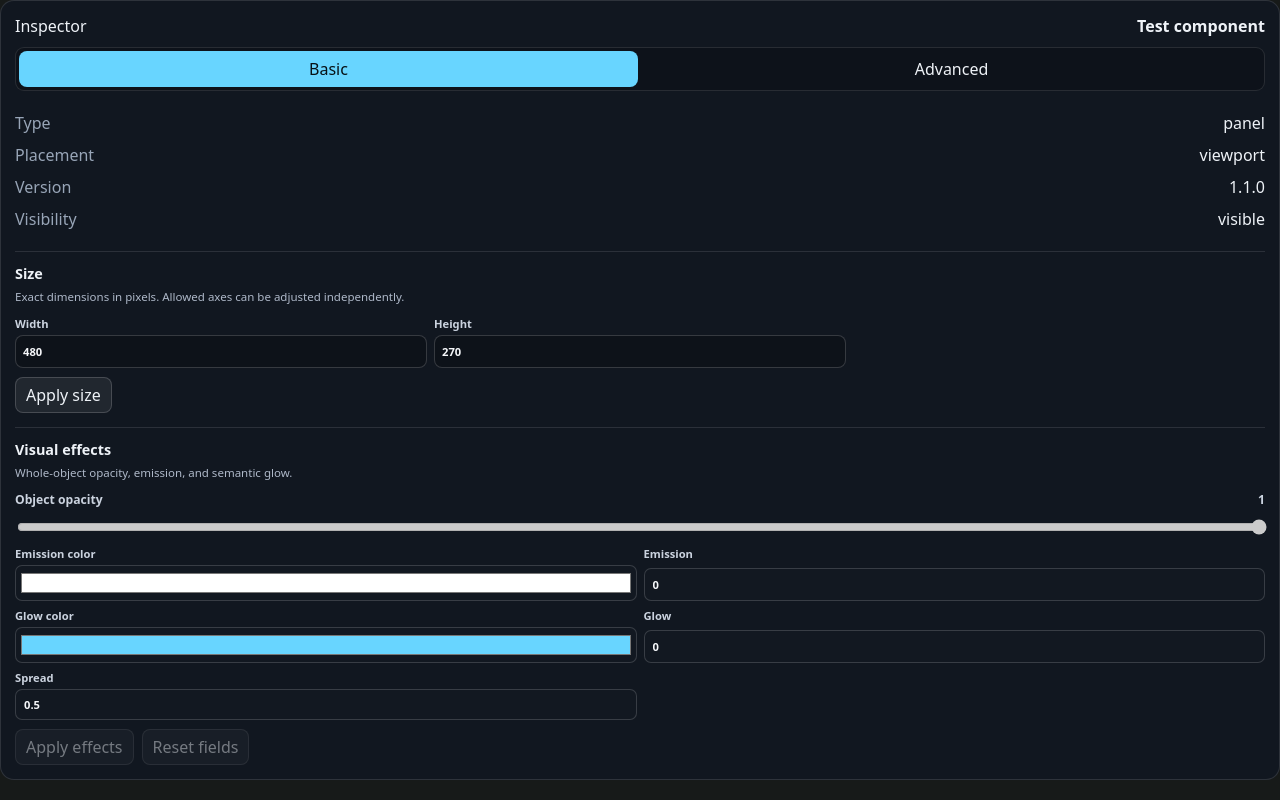
it: Workspace resize Inspector controls › rejects out-of-range numeric dimensions without silently clamping
Replace the text in the number field labelled "Width" with "20". click: (221,351)
box: [15,335,427,368]
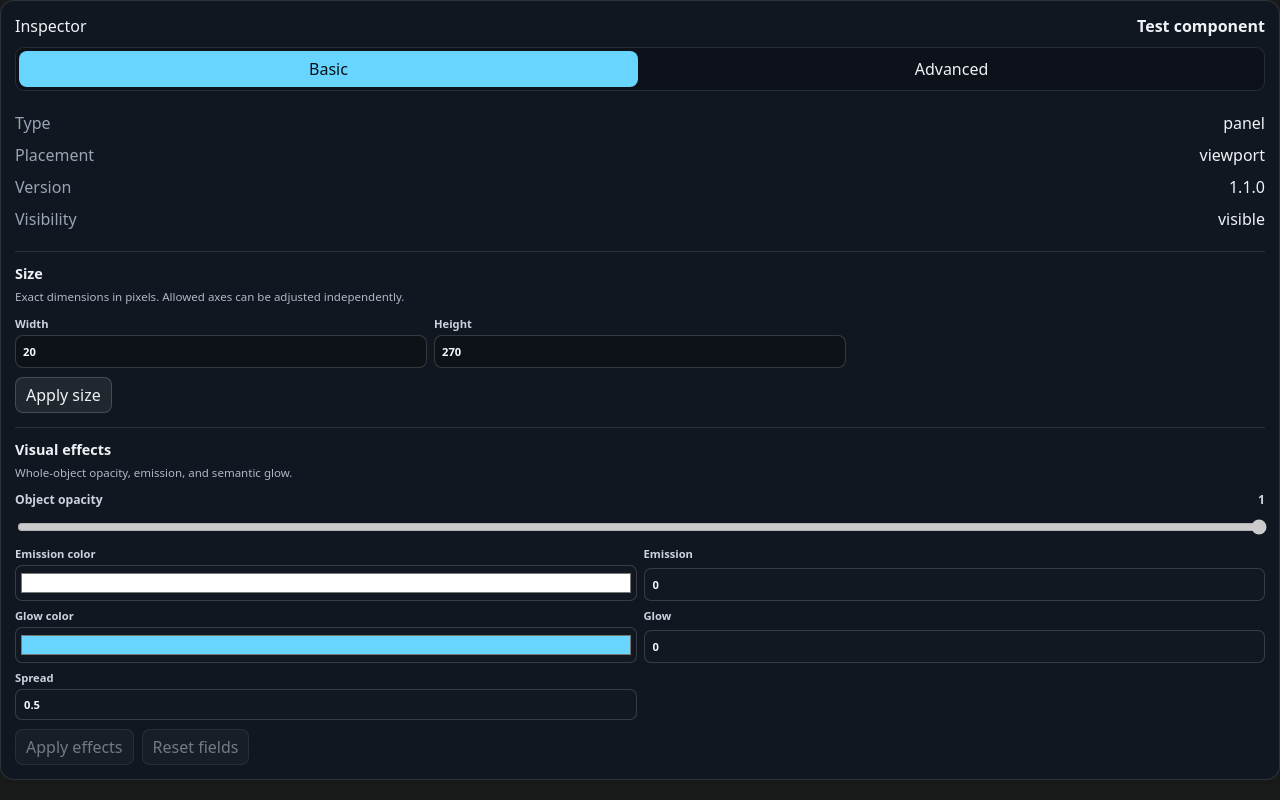
Click the button "Apply size". click: (63,395)
box: [15,377,112,413]
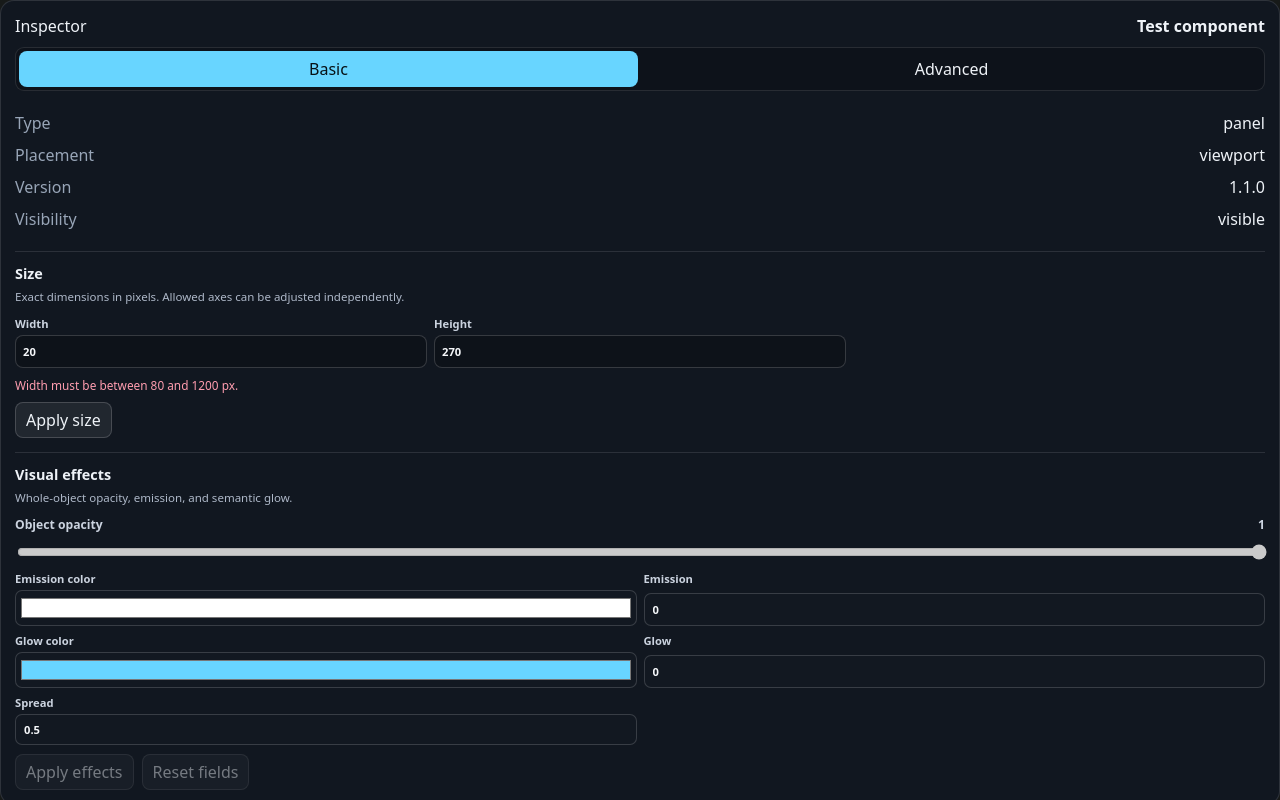
Expected: the message shows "Width must be between 80 and 1200 px", [15,377,238,393]
